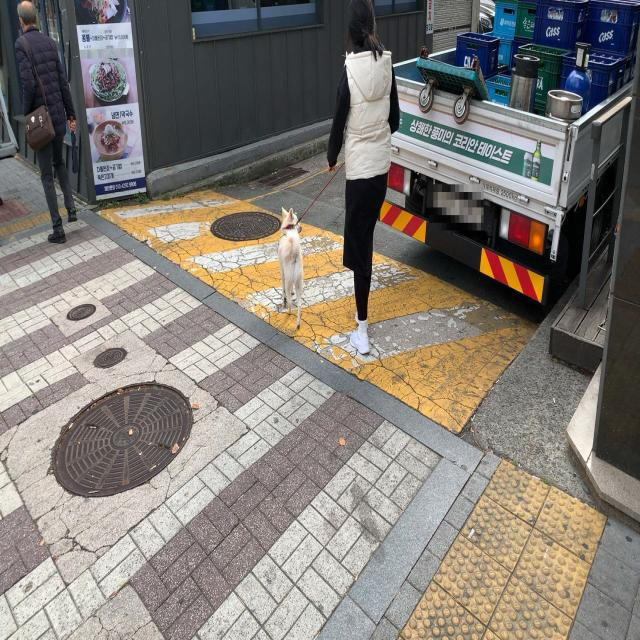Leashed_Dog: (278, 144, 365, 329)
